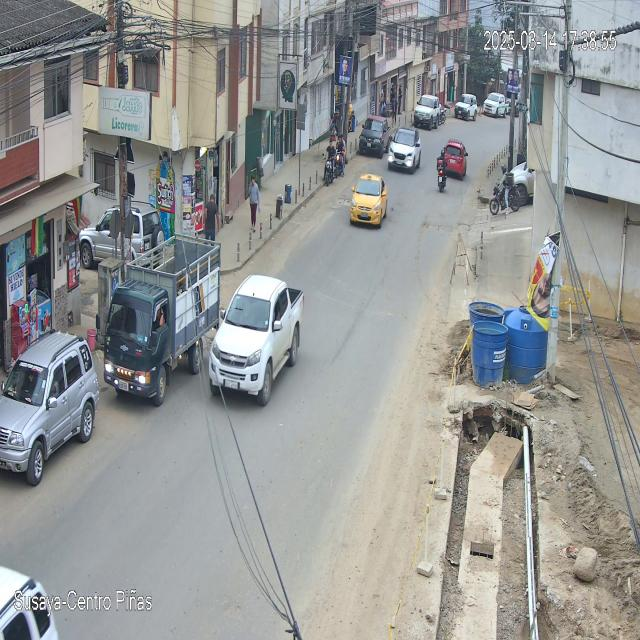CMT: (209, 276, 303, 407)
SED: (350, 173, 388, 230)
SUV: (1, 335, 101, 485)
TRUCK: (104, 245, 221, 407)
